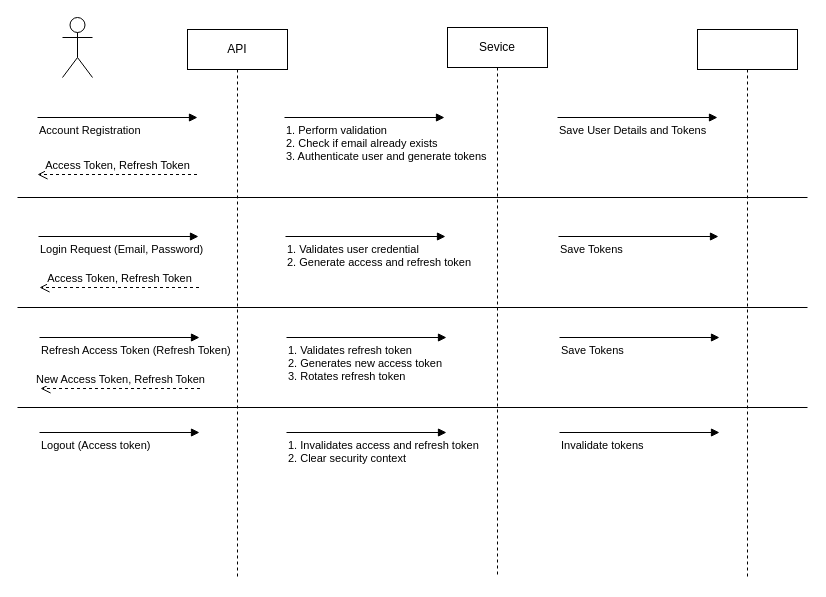
The diagram is 826 pixels wide and 597 high, and some of its shapes have lost their labels. The shapes that lost their labels are listed below. From the top down, each one's box as (x1, y1, x2, y2) in pixels, then its label:
(62, 16, 92, 78): User
(696, 28, 798, 580): Database
